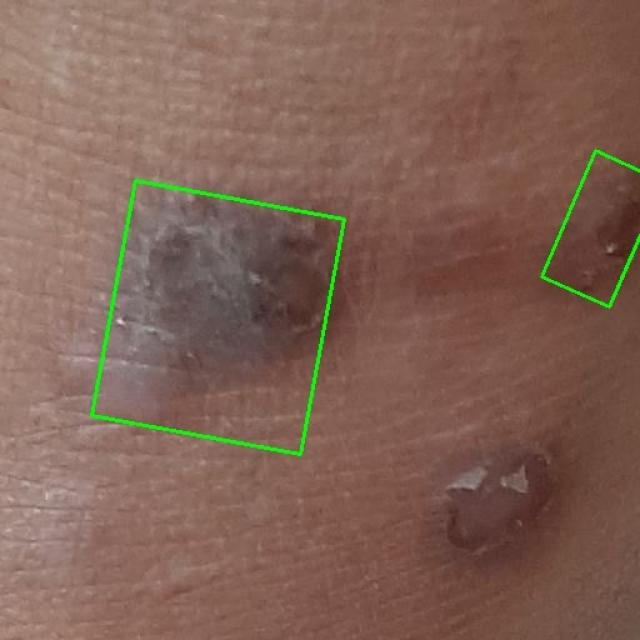Contact Dermatitis: (92, 181, 344, 454), (541, 150, 640, 306)
